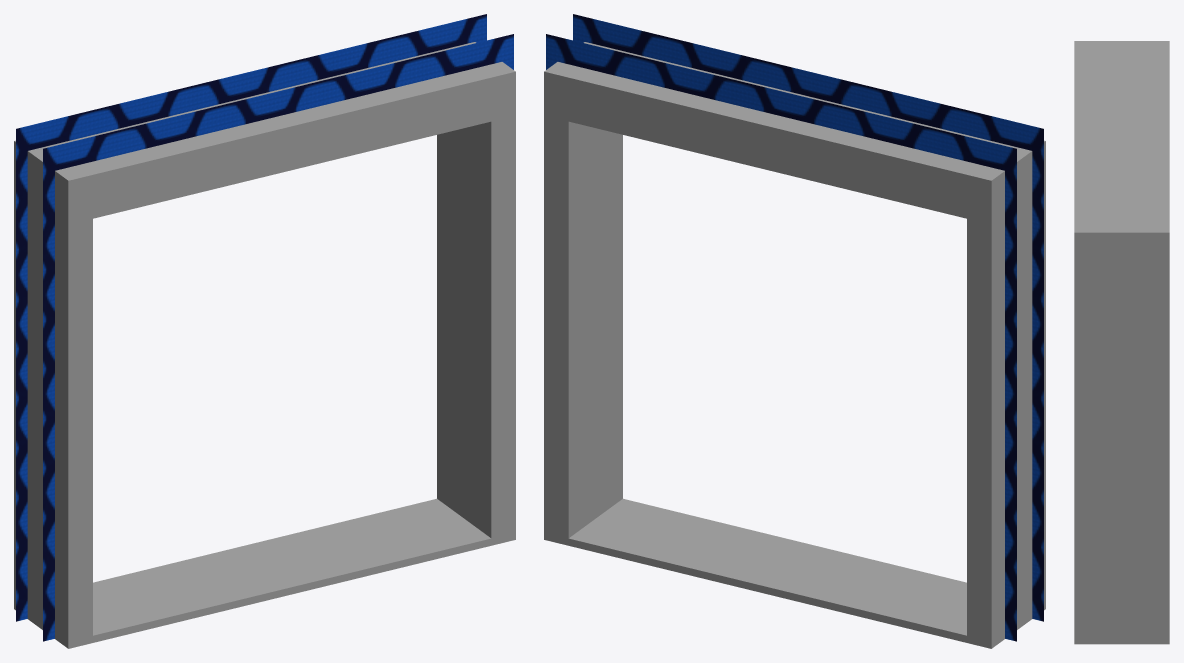
The model's file is modular door data walls.fbx.
The picture shows the model from 3 angles, left to right: view 1: azimuth 30°, elevation 25°; view 2: azimuth 150°, elevation 25°; view 3: azimuth 270°, elevation 25°; orthographic projection. The views are drawn at different scales.
Parts seen in each view (by area): view 1: data_wall_hole3; view 2: data_wall_hole3; view 3: data_wall_hole3.
Boxes of the visible parts, x1=… form: data_wall_hole3: x1=14, y1=14, x2=515, y2=648; data_wall_hole3: x1=544, y1=14, x2=1045, y2=648; data_wall_hole3: x1=1074, y1=41, x2=1169, y2=644.
Bounding box in the file's own units: 500 × 500 × 100.
